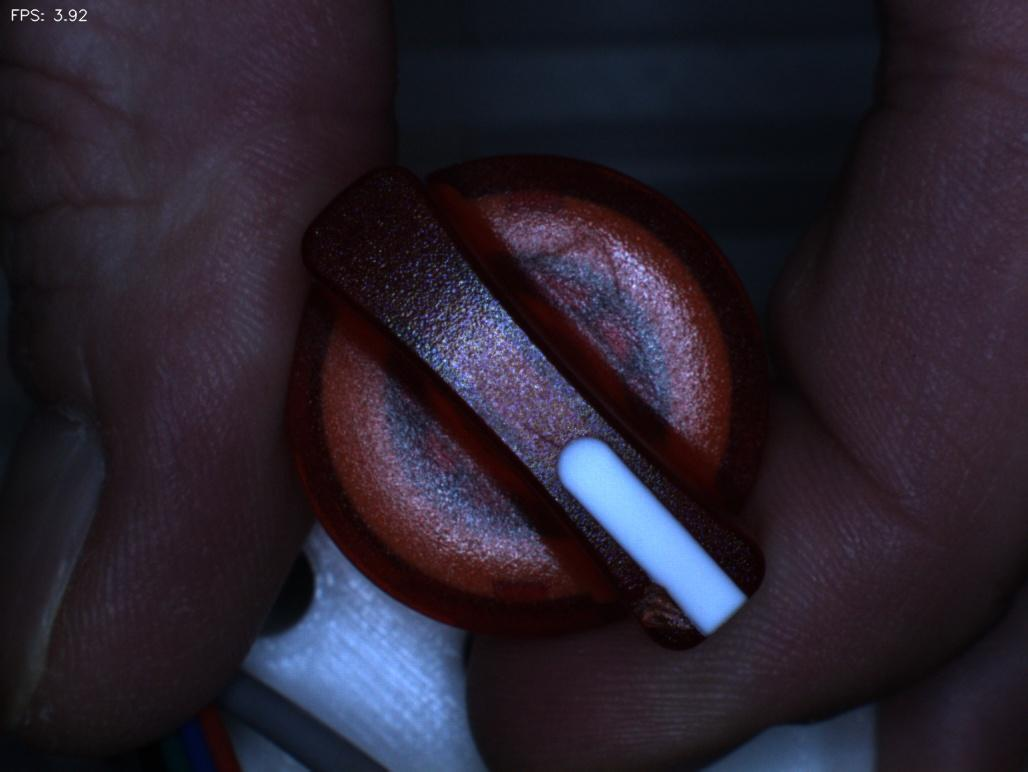Choc: (597, 556, 705, 656)
